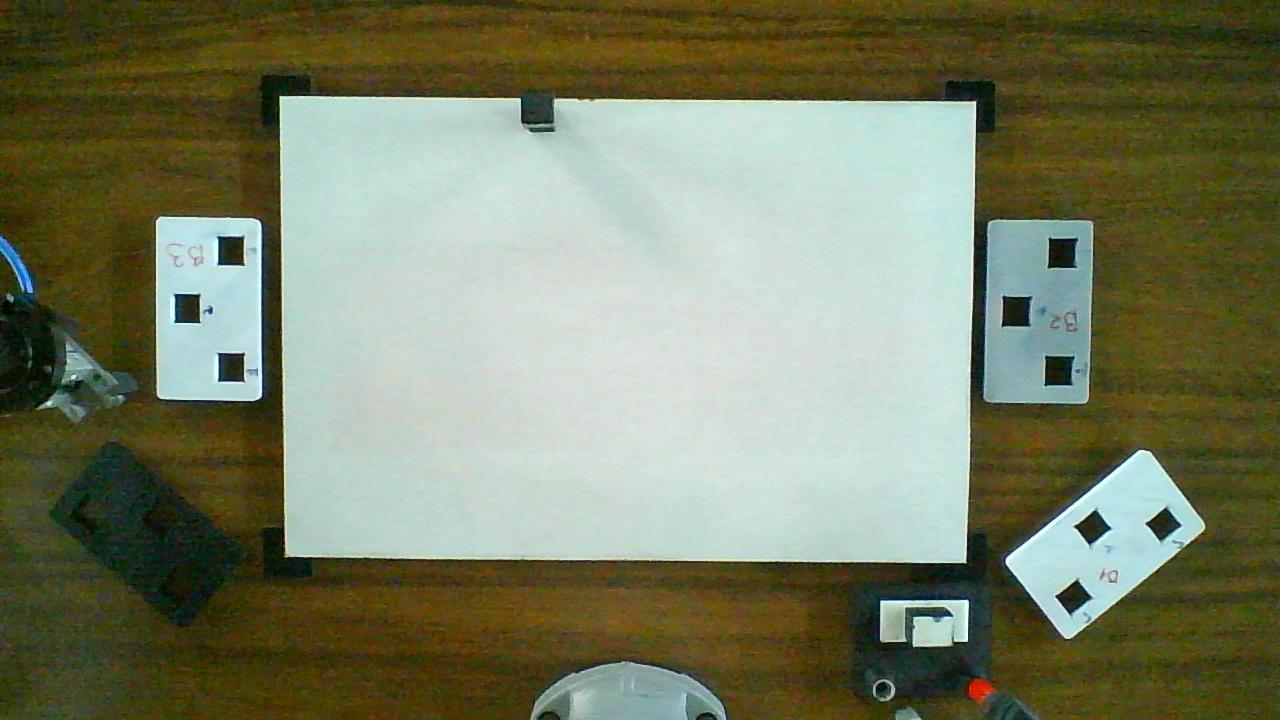peca_preta: (522, 93, 552, 123)
